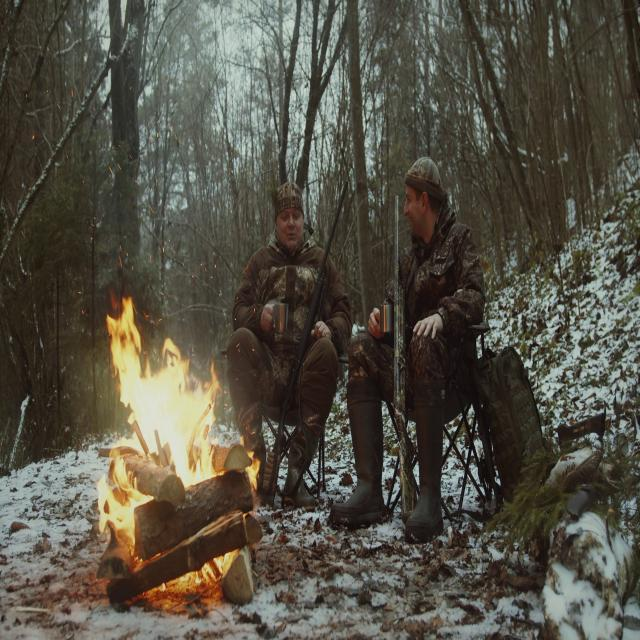Fire: (97, 307, 236, 545)
